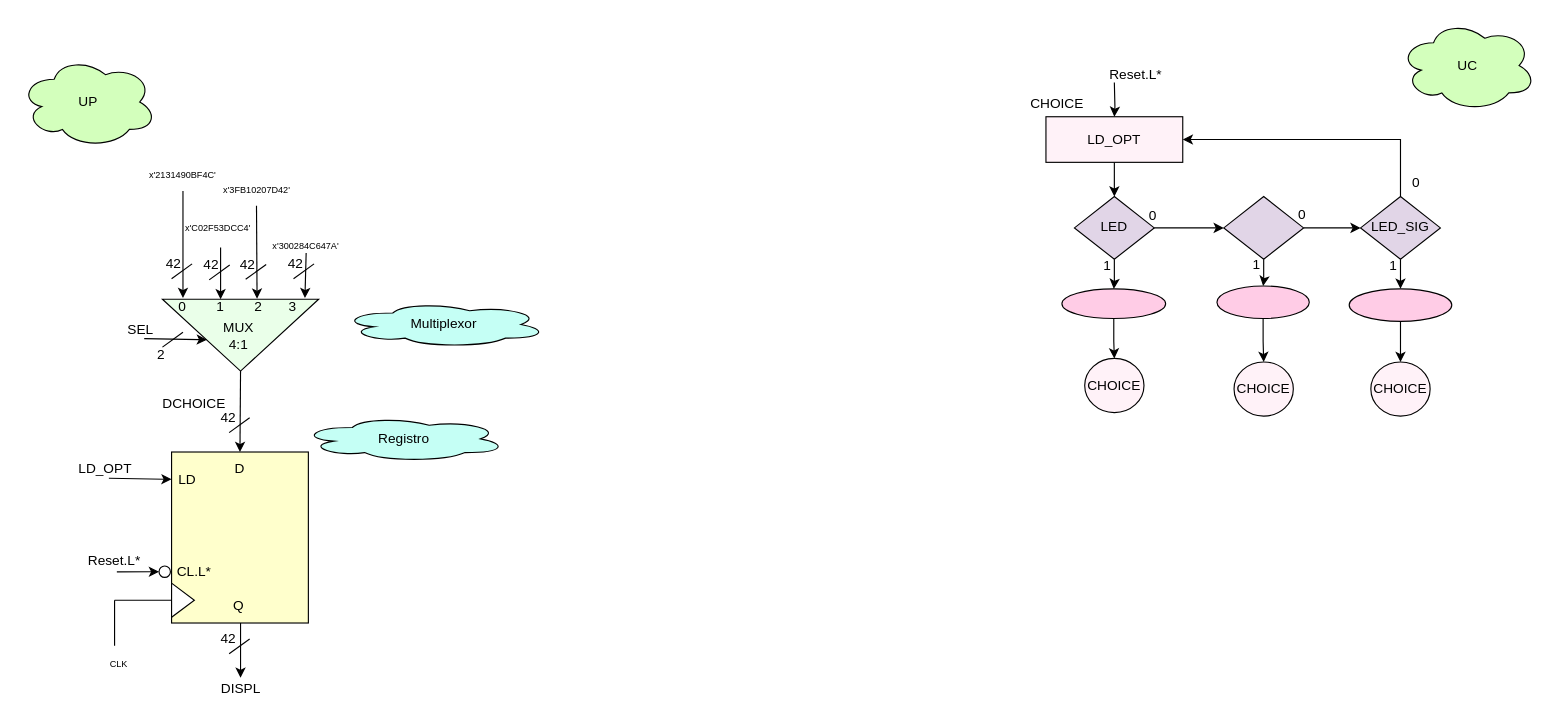
The diagram is 1556 pixels wide and 720 high, and some of its shapes have lost their labels. The box of each missing label's shape, as (x1, y1, x2, y2) in pixels:
LED_POS: (1223, 195, 1304, 259)
ROPT: (170, 451, 308, 623)
SEL=1: (1061, 288, 1166, 319)
SEL=2: (1216, 285, 1309, 319)
SEL=3: (1348, 288, 1452, 321)
